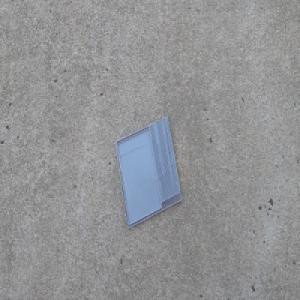PlasticPart: (114, 115, 182, 229)
